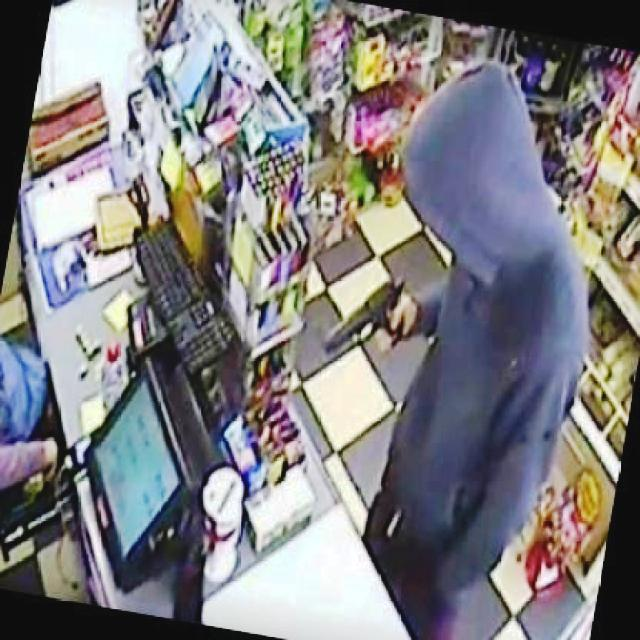Gun: (320, 274, 418, 354)
